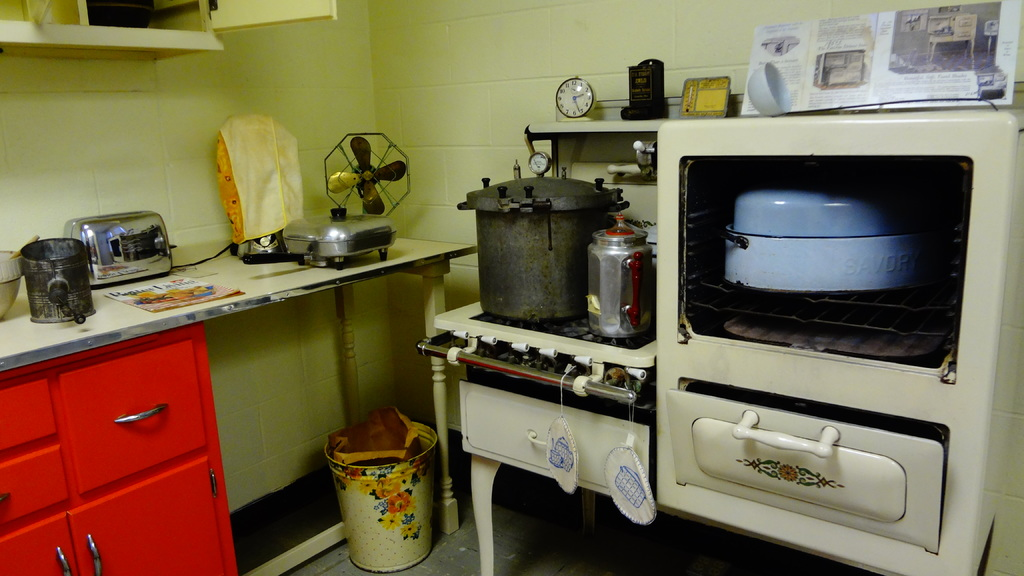cabinet door: (70, 367, 205, 466), (82, 490, 217, 576), (0, 381, 70, 436), (6, 526, 70, 576), (0, 461, 74, 502)
handle: (731, 419, 838, 465), (105, 403, 173, 428), (82, 524, 106, 576), (50, 540, 75, 576)
